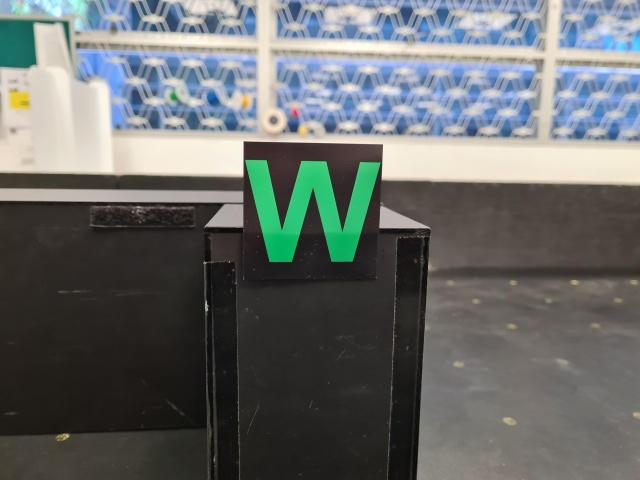alphabet_w: (241, 139, 384, 281)
